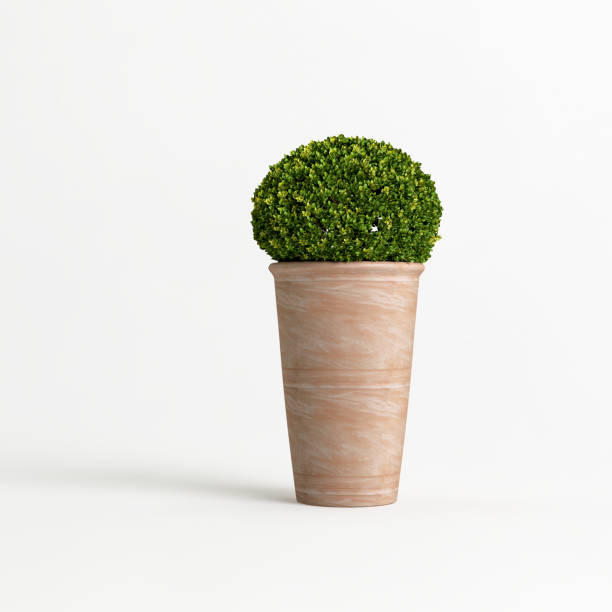potted plant: (218, 99, 529, 577)
